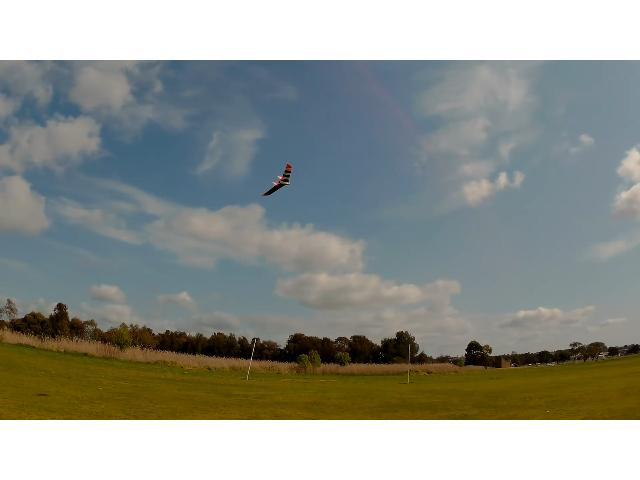Anti-Drone: (260, 164, 292, 196)
